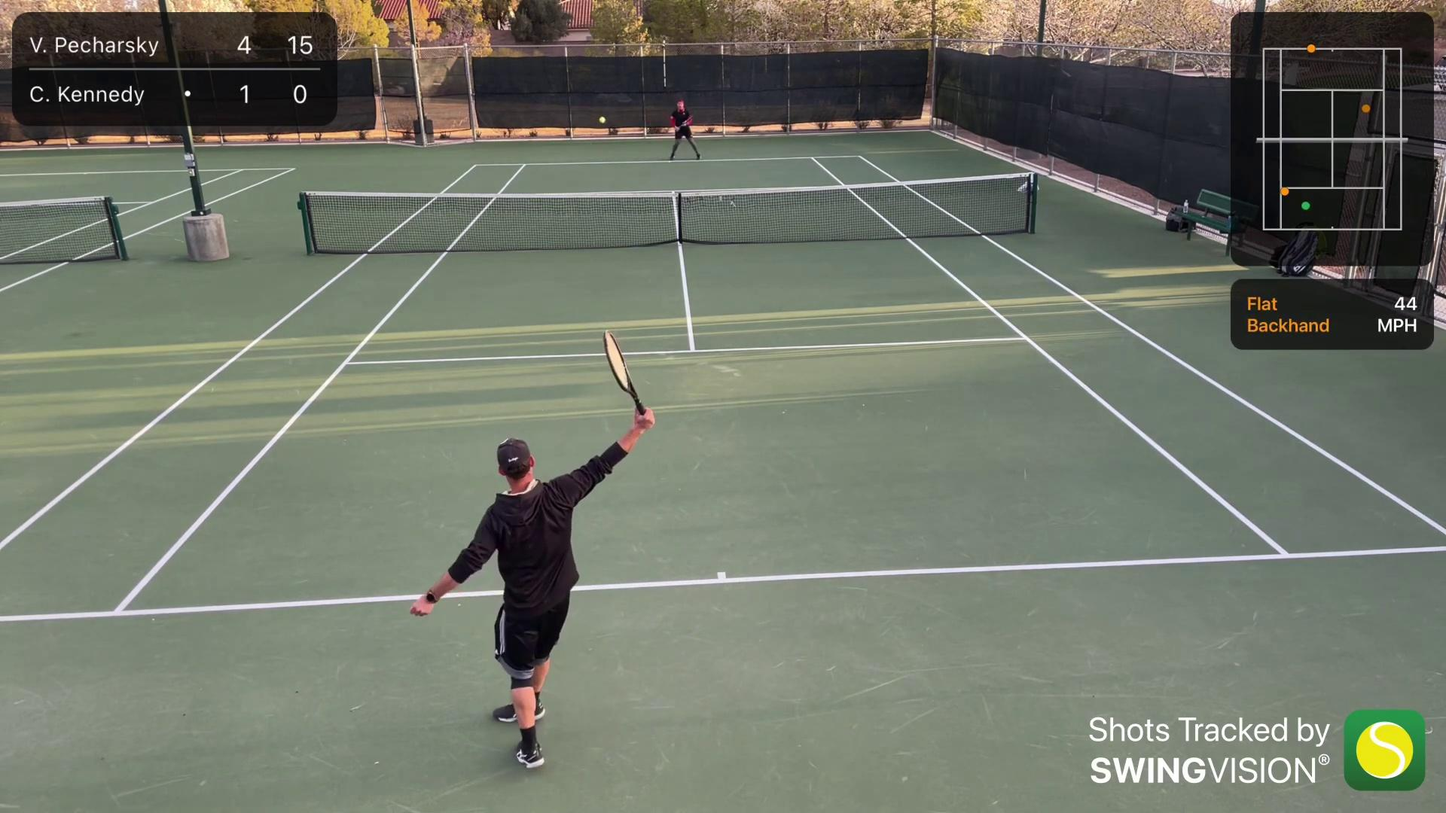ball: (599, 116, 605, 124)
